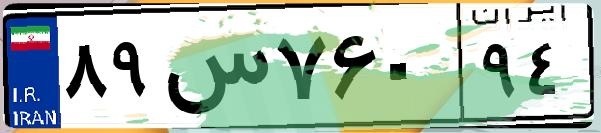0: (385, 28, 445, 110)
4: (525, 38, 570, 115)
6: (330, 28, 385, 110)
7: (270, 28, 330, 110)
8: (57, 26, 110, 100)
9: (475, 38, 525, 113), (110, 28, 158, 98)
س: (158, 20, 270, 120)
